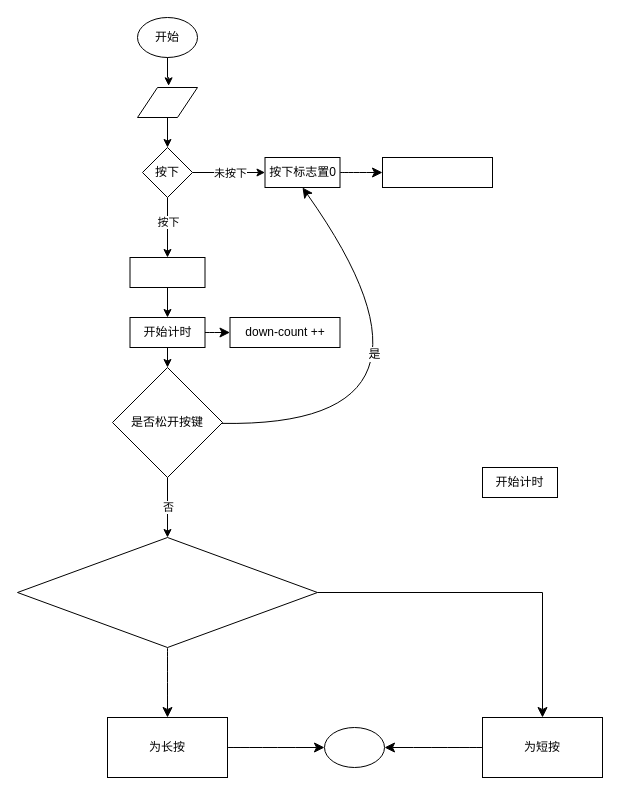
Some shapes in this 620 by 795 pixel diagram are drawn without their labels. The centre of each missing label's shape, as x and y in pixels:
down-count 是否大于 3000: [167,592]
down-count 清零: [437,172]
按下标志置1: [167,272]
按键: [167,102]
结束: [354,747]
